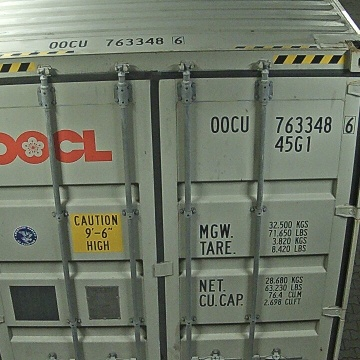serial_id: (211, 115, 356, 133)
